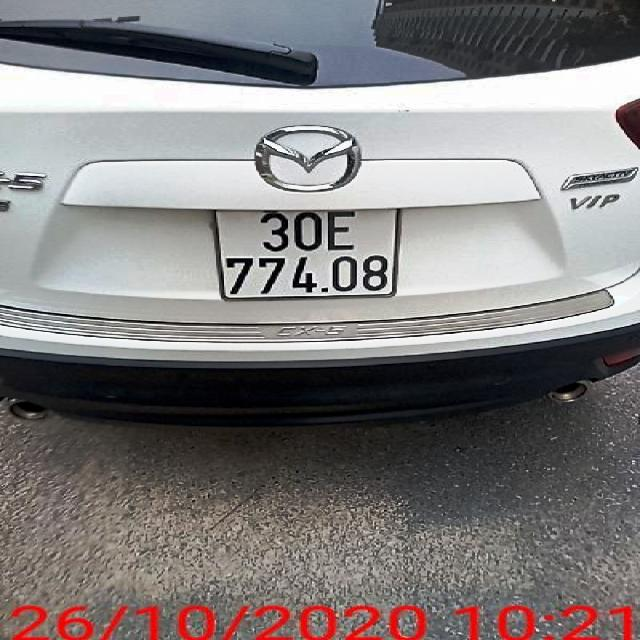license_plate: (219, 209, 406, 299)
